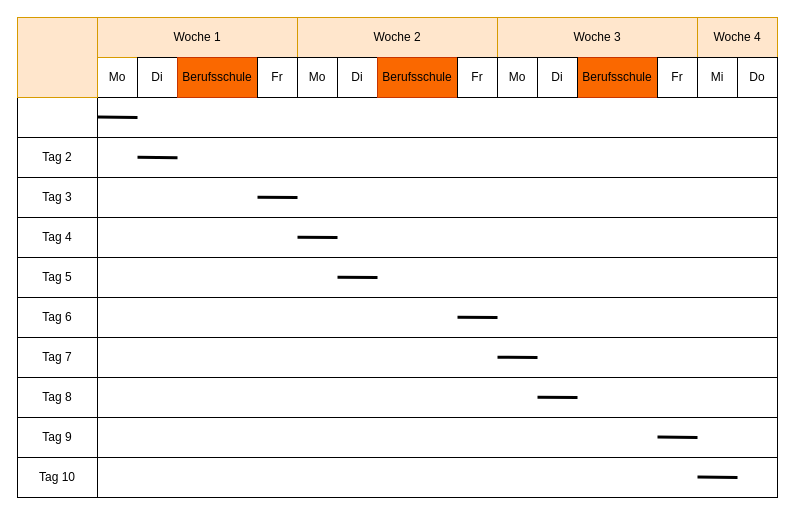
This 795x515 diagram has some shape labels left out. Each missing label, with the box of its shape:
Prozess: (16, 16, 98, 98)
Tag 1: (16, 96, 98, 138)
